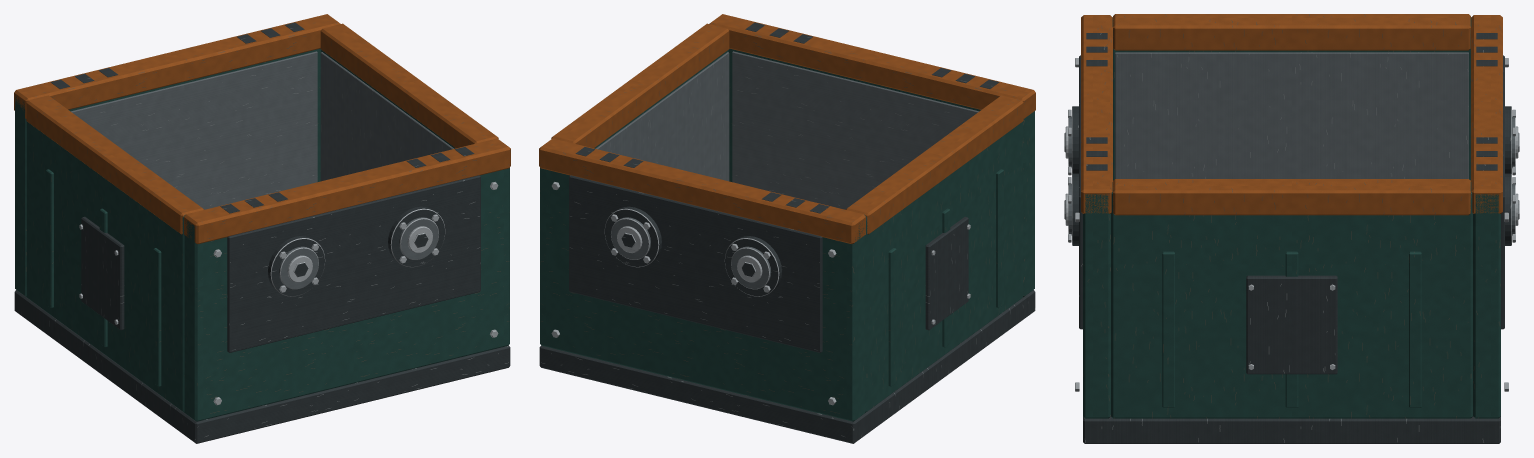
File: scrapper_body.glb
3 views of the same model, side by side, from view 1: azimuth 30°, elevation 25°; view 2: azimuth 150°, elevation 25°; view 3: azimuth 270°, elevation 25° (orthographic). The views are drawn at different scales.
Visible parts, largest first — view 1: scrapper_body; view 2: scrapper_body; view 3: scrapper_body.
Boxes of the visible parts, x1=… form: scrapper_body: x1=14, y1=14, x2=510, y2=443; scrapper_body: x1=539, y1=14, x2=1035, y2=443; scrapper_body: x1=1064, y1=14, x2=1519, y2=443.
Size of the model in its own units: 1.1 by 0.7065 by 1.14.
5 materials, 5 textured.
